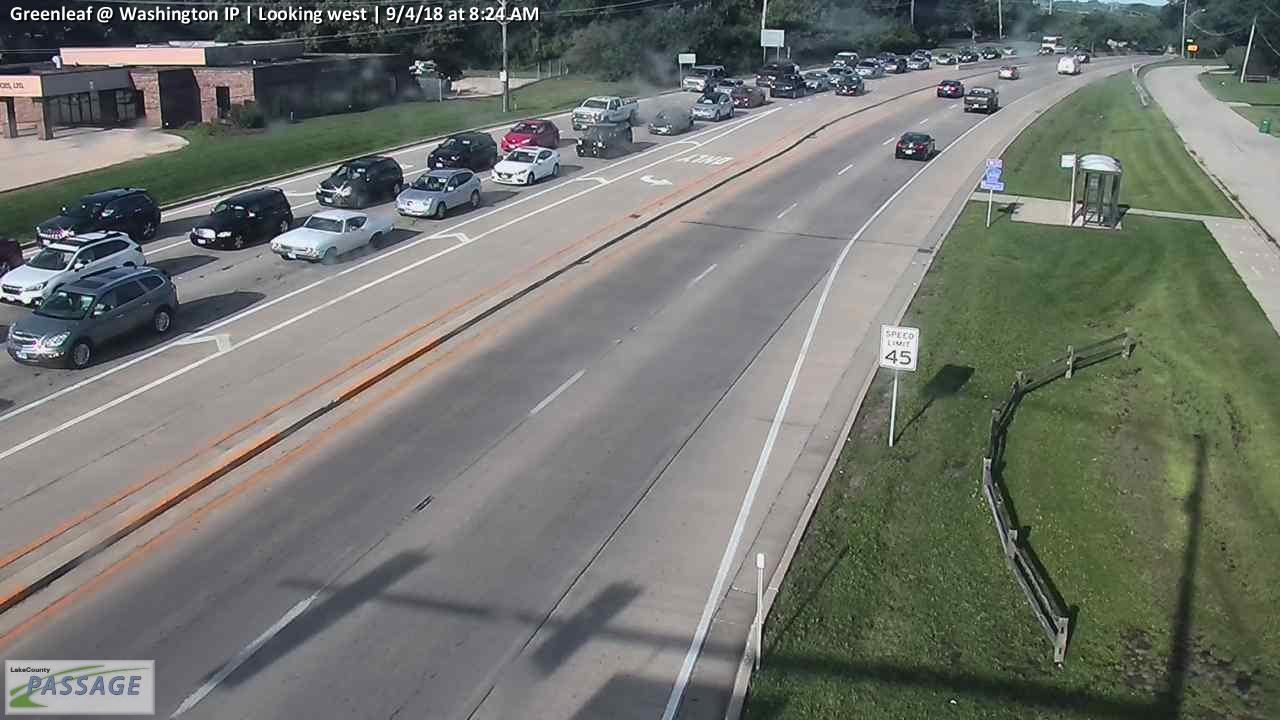SUV: (6, 264, 178, 370), (2, 229, 147, 308), (33, 188, 163, 254), (189, 187, 293, 250), (314, 154, 405, 209), (681, 63, 726, 91), (832, 53, 858, 68)
Sedan: (272, 208, 396, 264), (396, 168, 482, 221), (428, 130, 497, 172), (491, 146, 560, 185), (577, 122, 633, 158), (500, 118, 560, 151), (689, 91, 734, 120), (647, 110, 694, 135), (896, 131, 935, 161), (961, 87, 999, 114), (771, 77, 807, 98), (731, 85, 763, 107), (803, 69, 833, 90), (855, 59, 882, 78), (836, 76, 864, 94), (937, 80, 964, 96), (1058, 56, 1081, 73), (882, 57, 905, 72), (907, 55, 931, 69), (998, 64, 1019, 78), (935, 52, 957, 64), (957, 49, 979, 61)
Truck: (571, 94, 640, 131)
